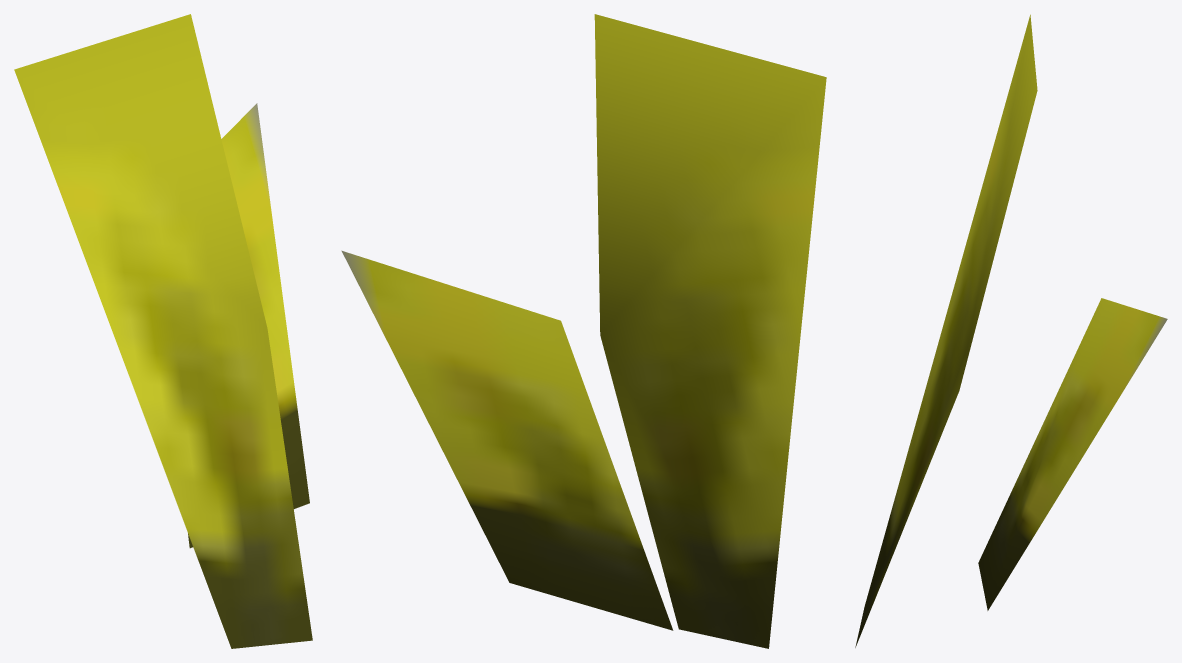
The model's file is fg_grassA.dae.
3 renders of one model, left to right at view 1: azimuth 30°, elevation 25°; view 2: azimuth 150°, elevation 25°; view 3: azimuth 270°, elevation 25°, orthographic. The views are drawn at different scales.
Visible parts, largest first — view 1: fg_grassA; view 2: fg_grassA; view 3: fg_grassA.
Part boxes in pixels (<box>): fg_grassA: <box>14,14,312,648</box>; fg_grassA: <box>341,14,826,648</box>; fg_grassA: <box>855,14,1167,647</box>.
Size of the model in its own units: 11.97 by 20.54 by 10.68.
Materials: 1 (1 with a texture image).
